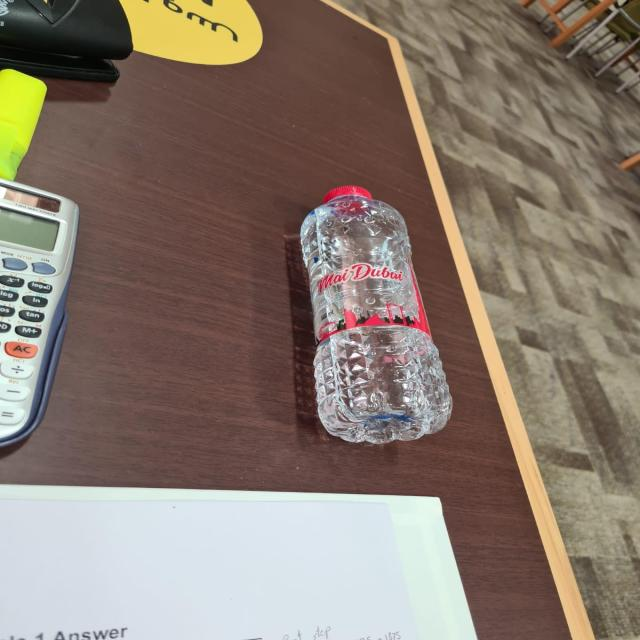bottle: (274, 185, 458, 452)
